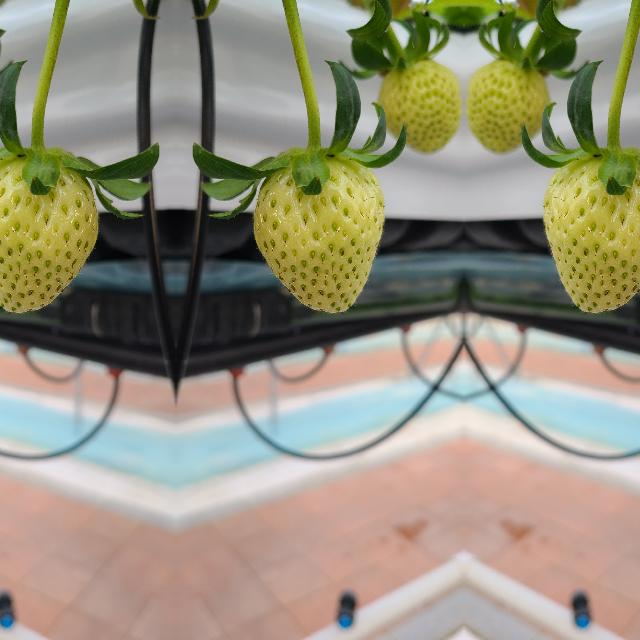Health_25: (250, 158, 386, 314), (540, 157, 640, 314), (0, 157, 99, 314), (373, 56, 463, 156), (463, 56, 553, 156)
